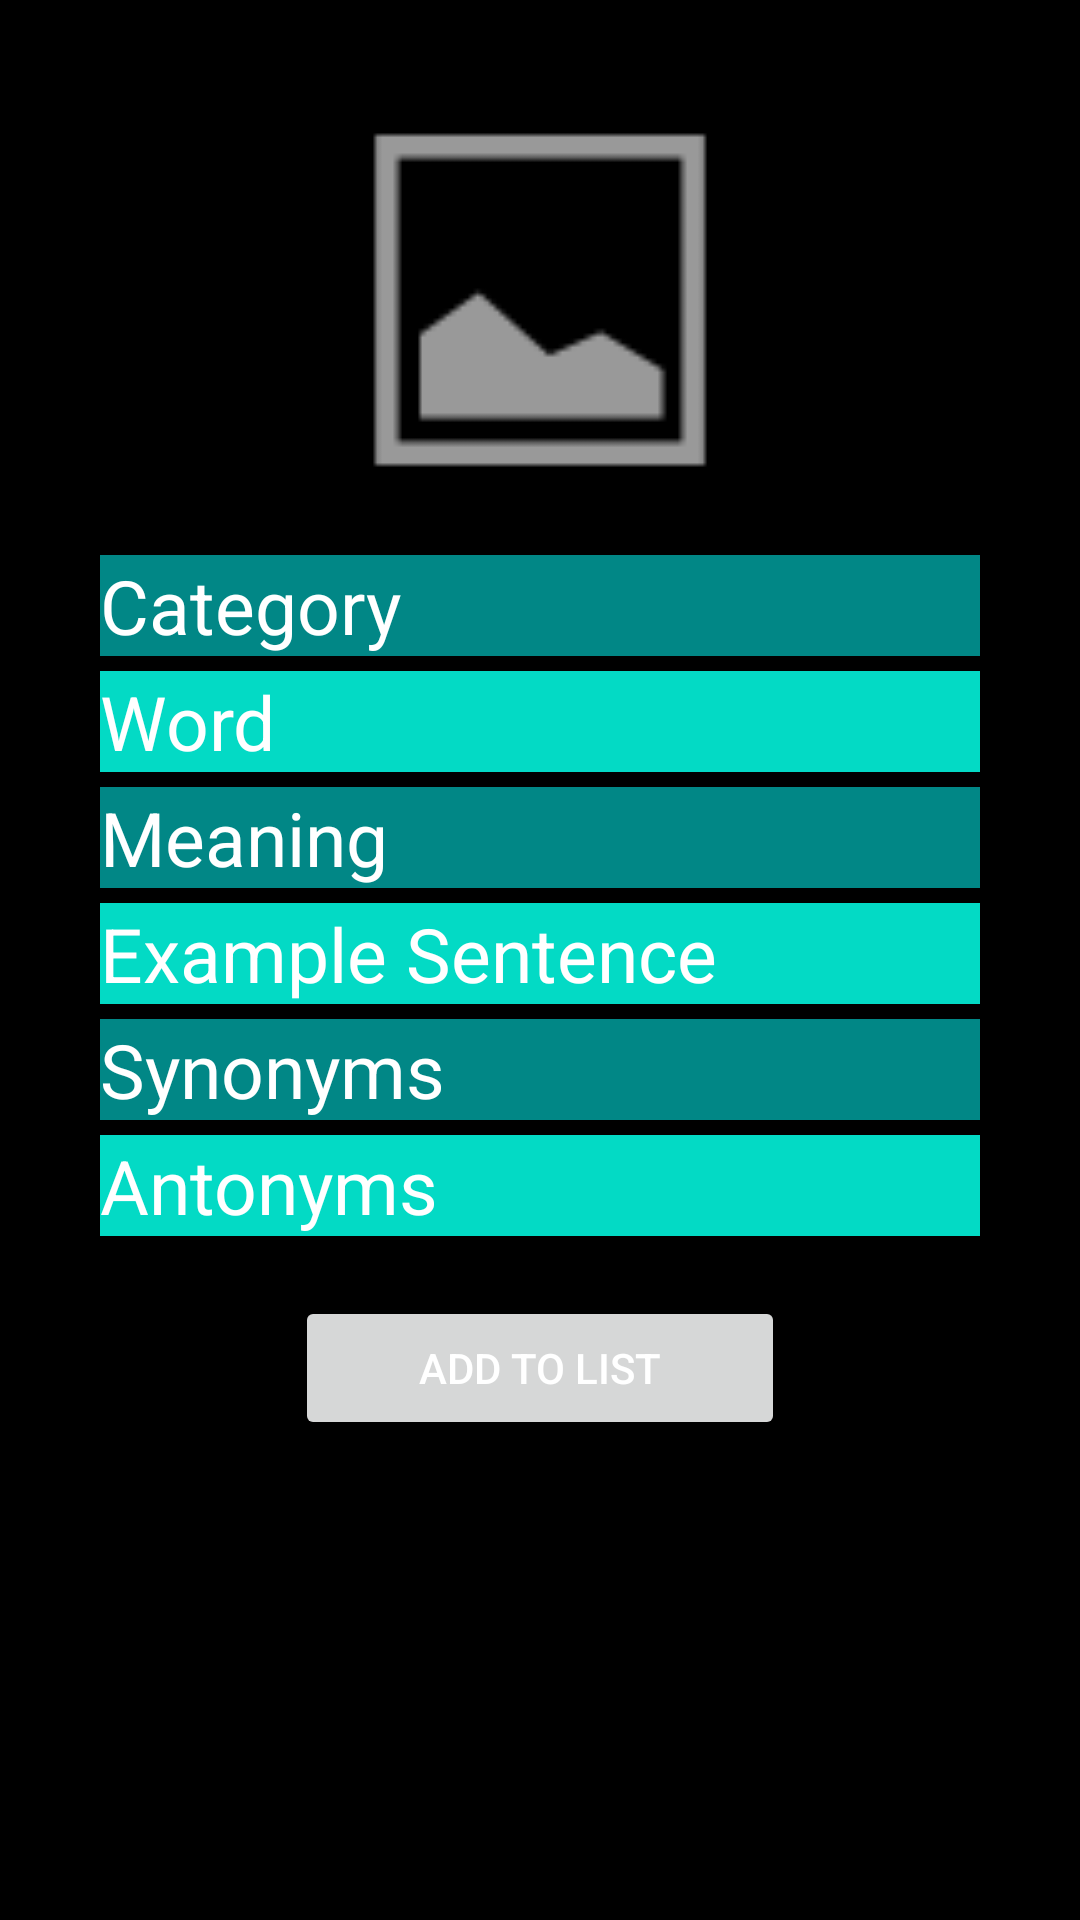

Named icons in this screenshot (1080w x 1920h) and their centers, [x,y]:
gallery: [540,300]
